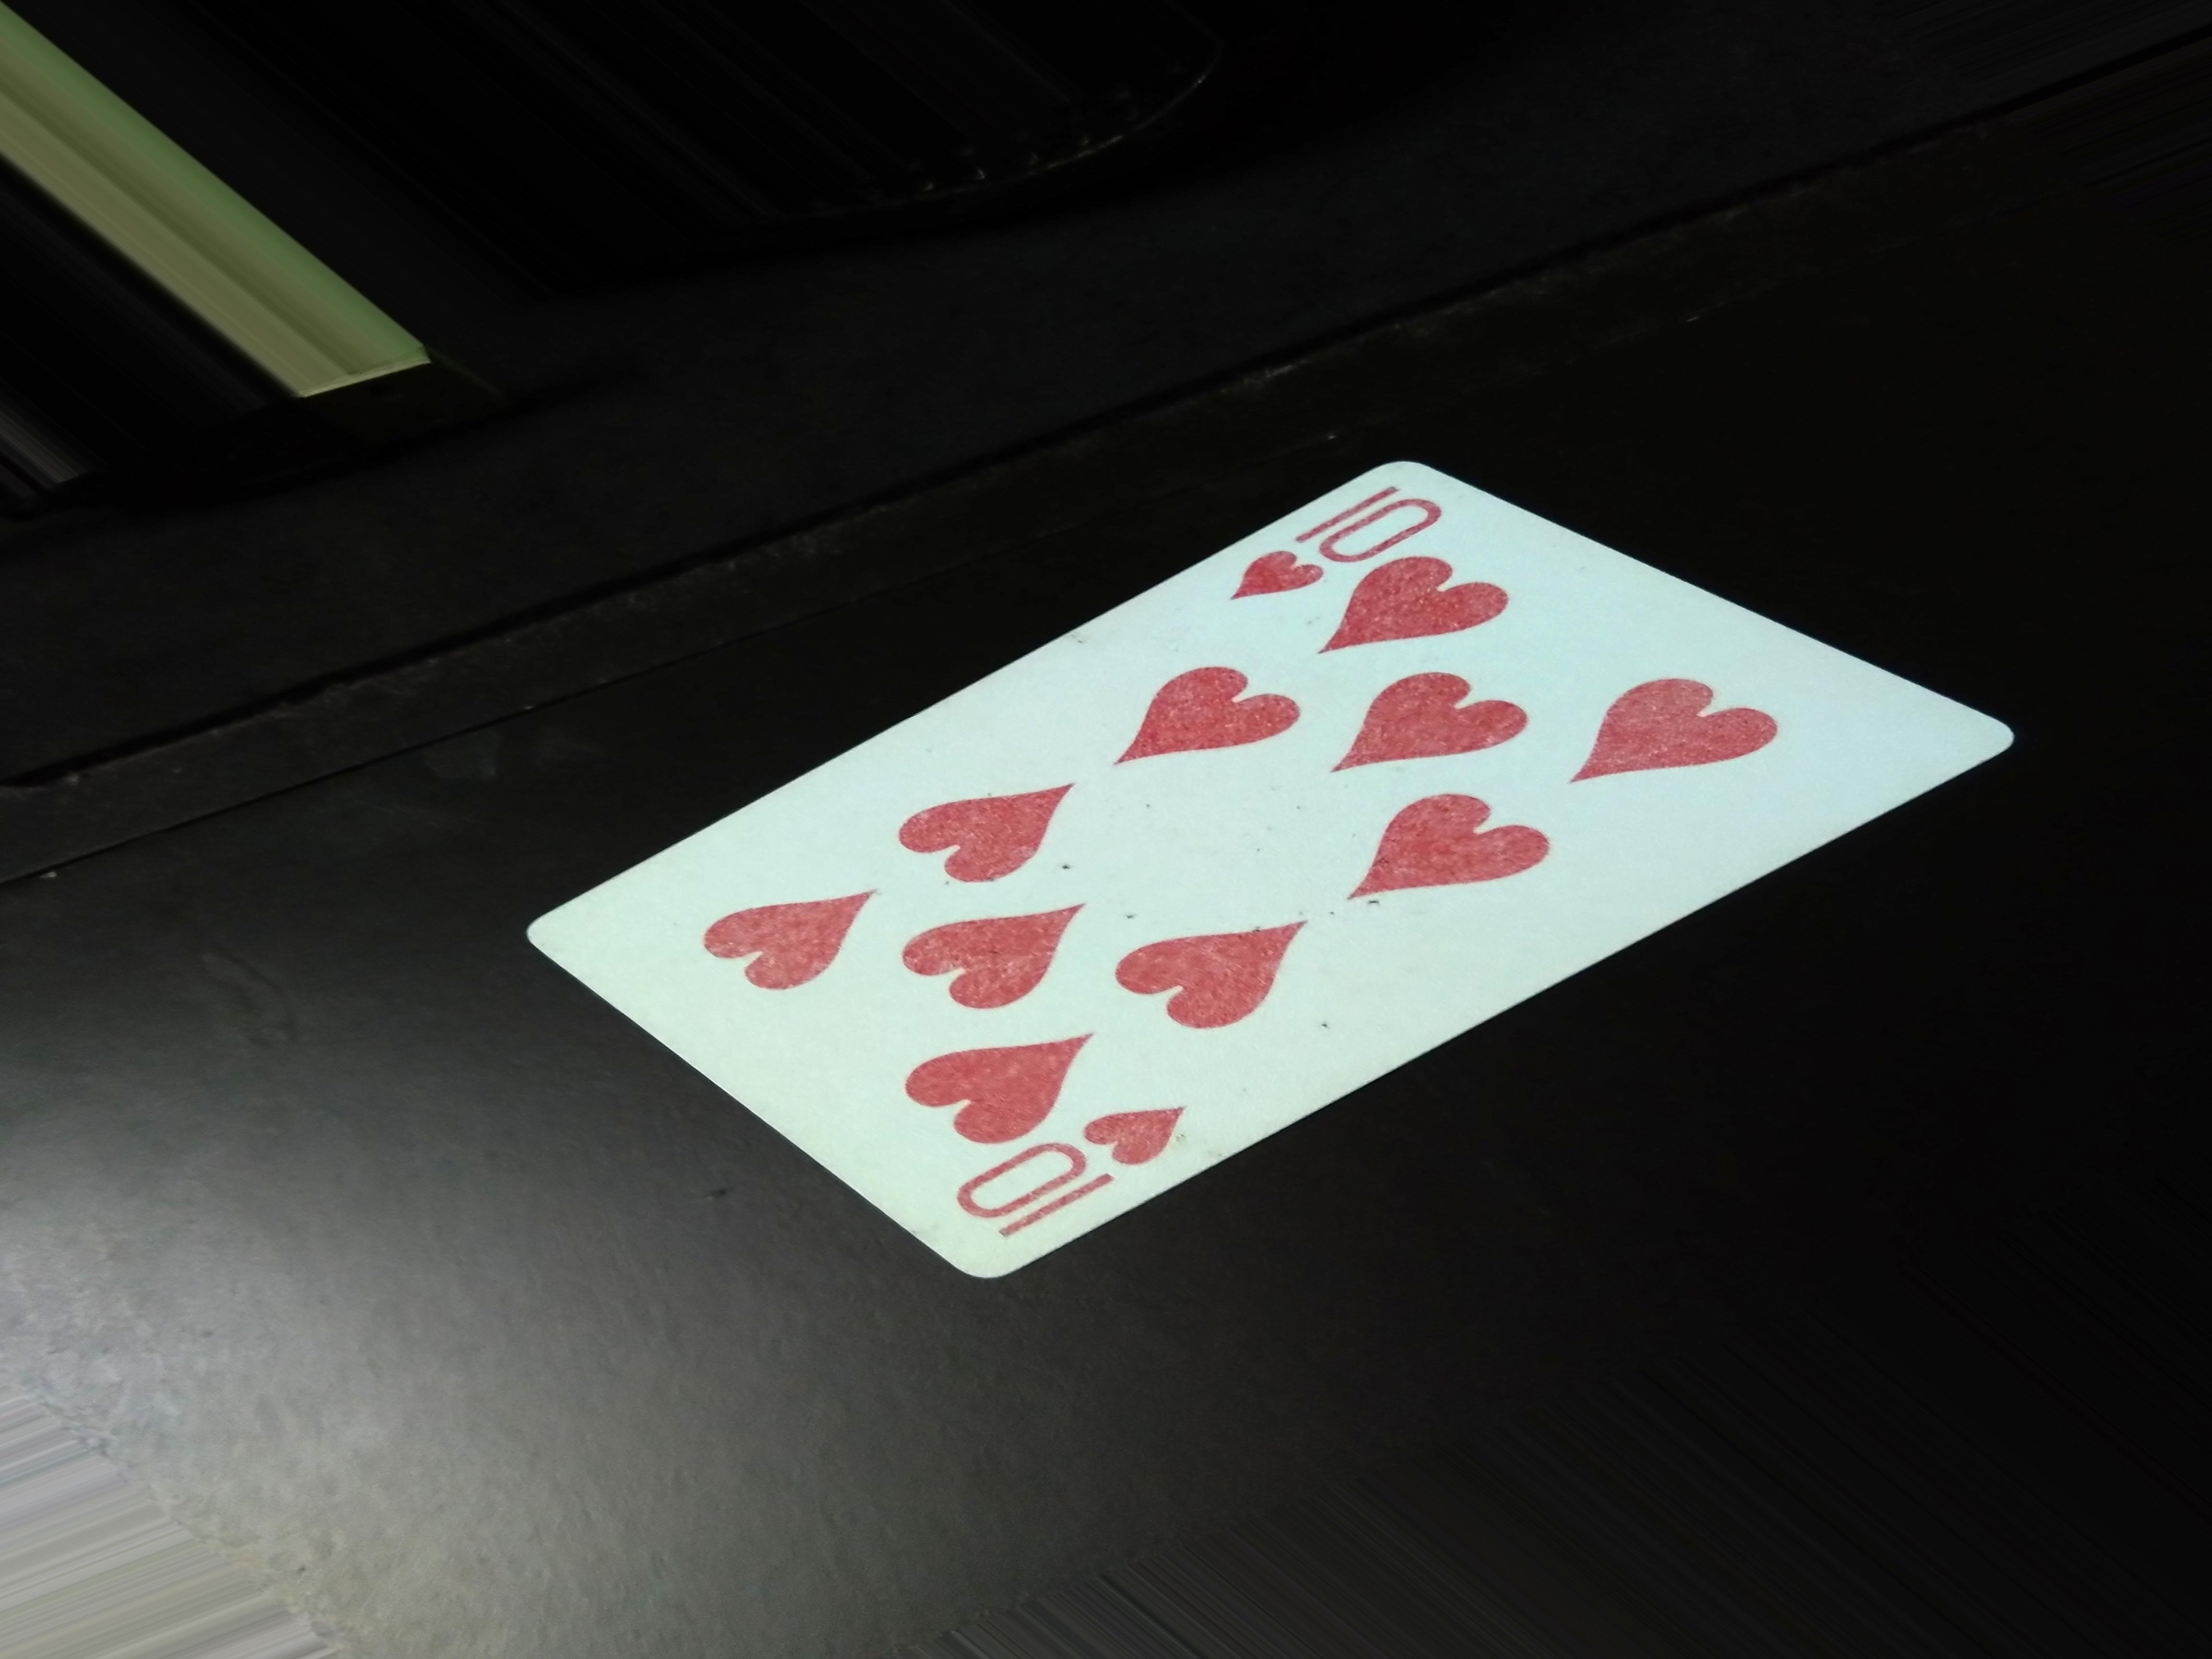10H: (1231, 460, 1425, 620)
